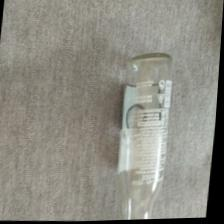glass: (118, 53, 171, 218)
plastic: (118, 53, 171, 218)
